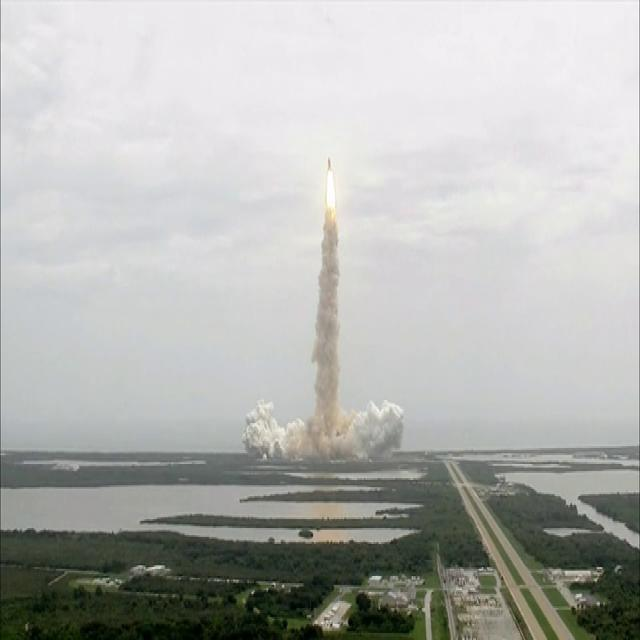fire: (324, 172, 338, 212)
smoke: (245, 411, 276, 465), (280, 424, 314, 464), (318, 388, 337, 457), (380, 404, 400, 447), (361, 409, 377, 462), (341, 412, 358, 460), (318, 300, 336, 340), (318, 346, 338, 381), (320, 259, 336, 294), (324, 217, 338, 250)
